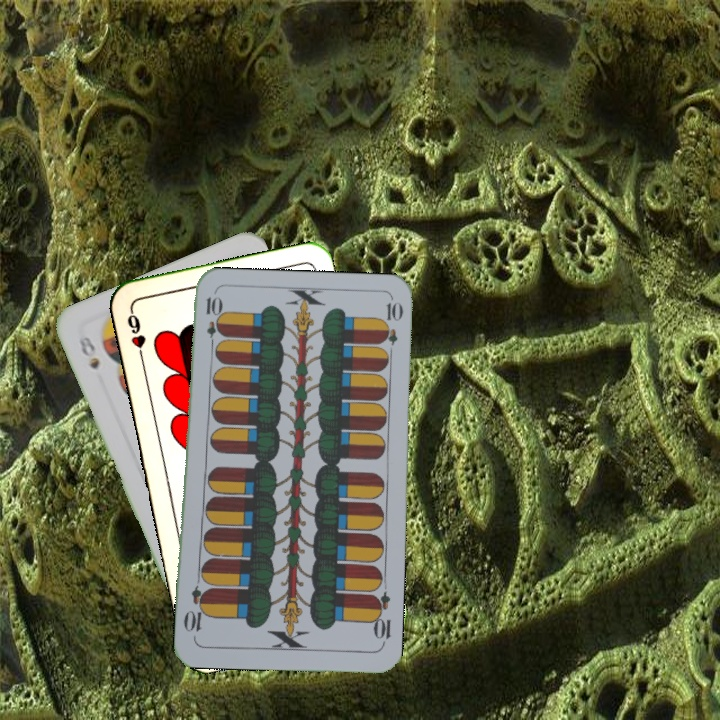E10: (367, 589, 394, 648), (202, 293, 220, 352)
H9: (123, 305, 149, 364)
S8: (75, 331, 103, 372)
